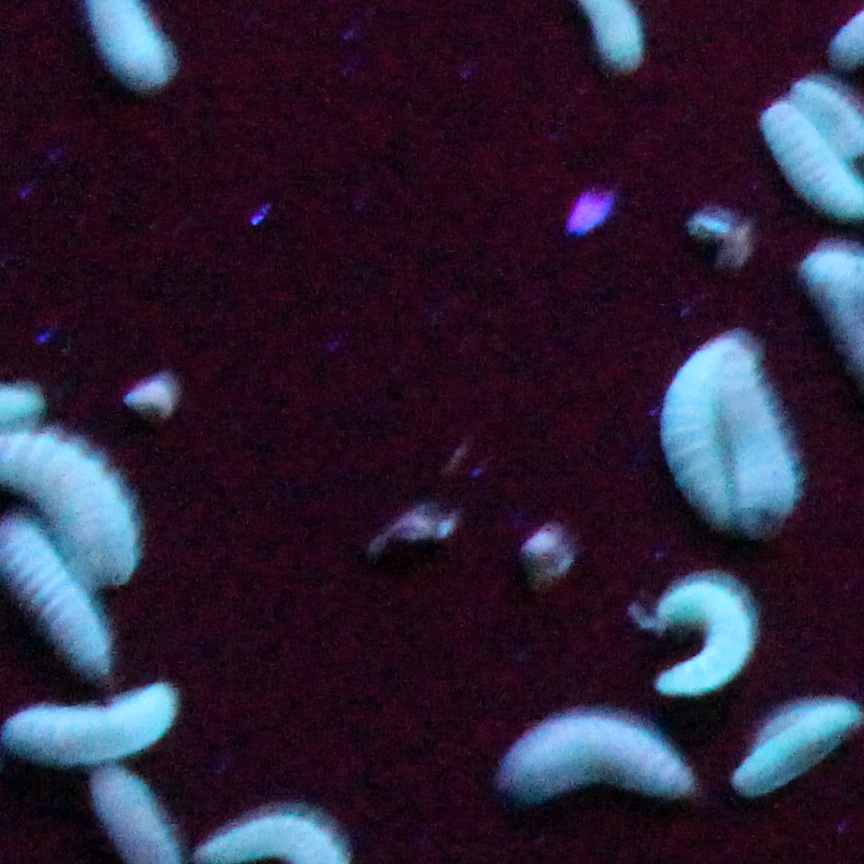larve: (1, 516, 108, 676), (502, 717, 689, 799), (664, 334, 737, 526), (716, 350, 793, 531), (5, 685, 173, 764), (655, 581, 750, 696), (734, 701, 856, 790)
